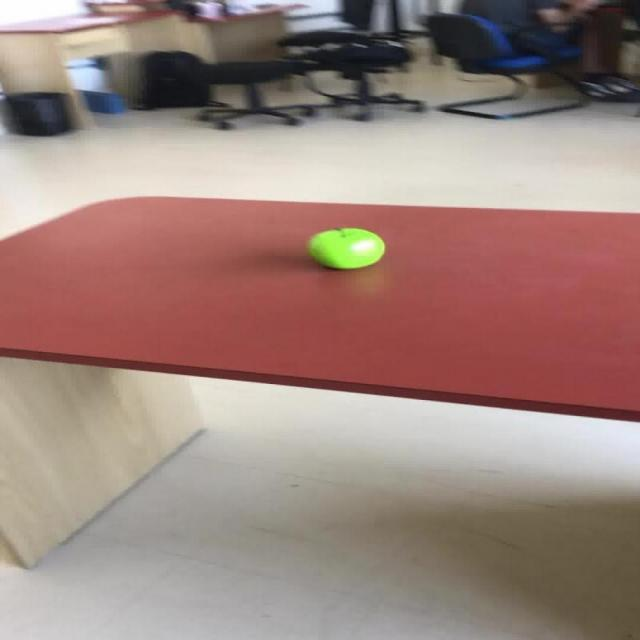Apple: (306, 226, 385, 268)
